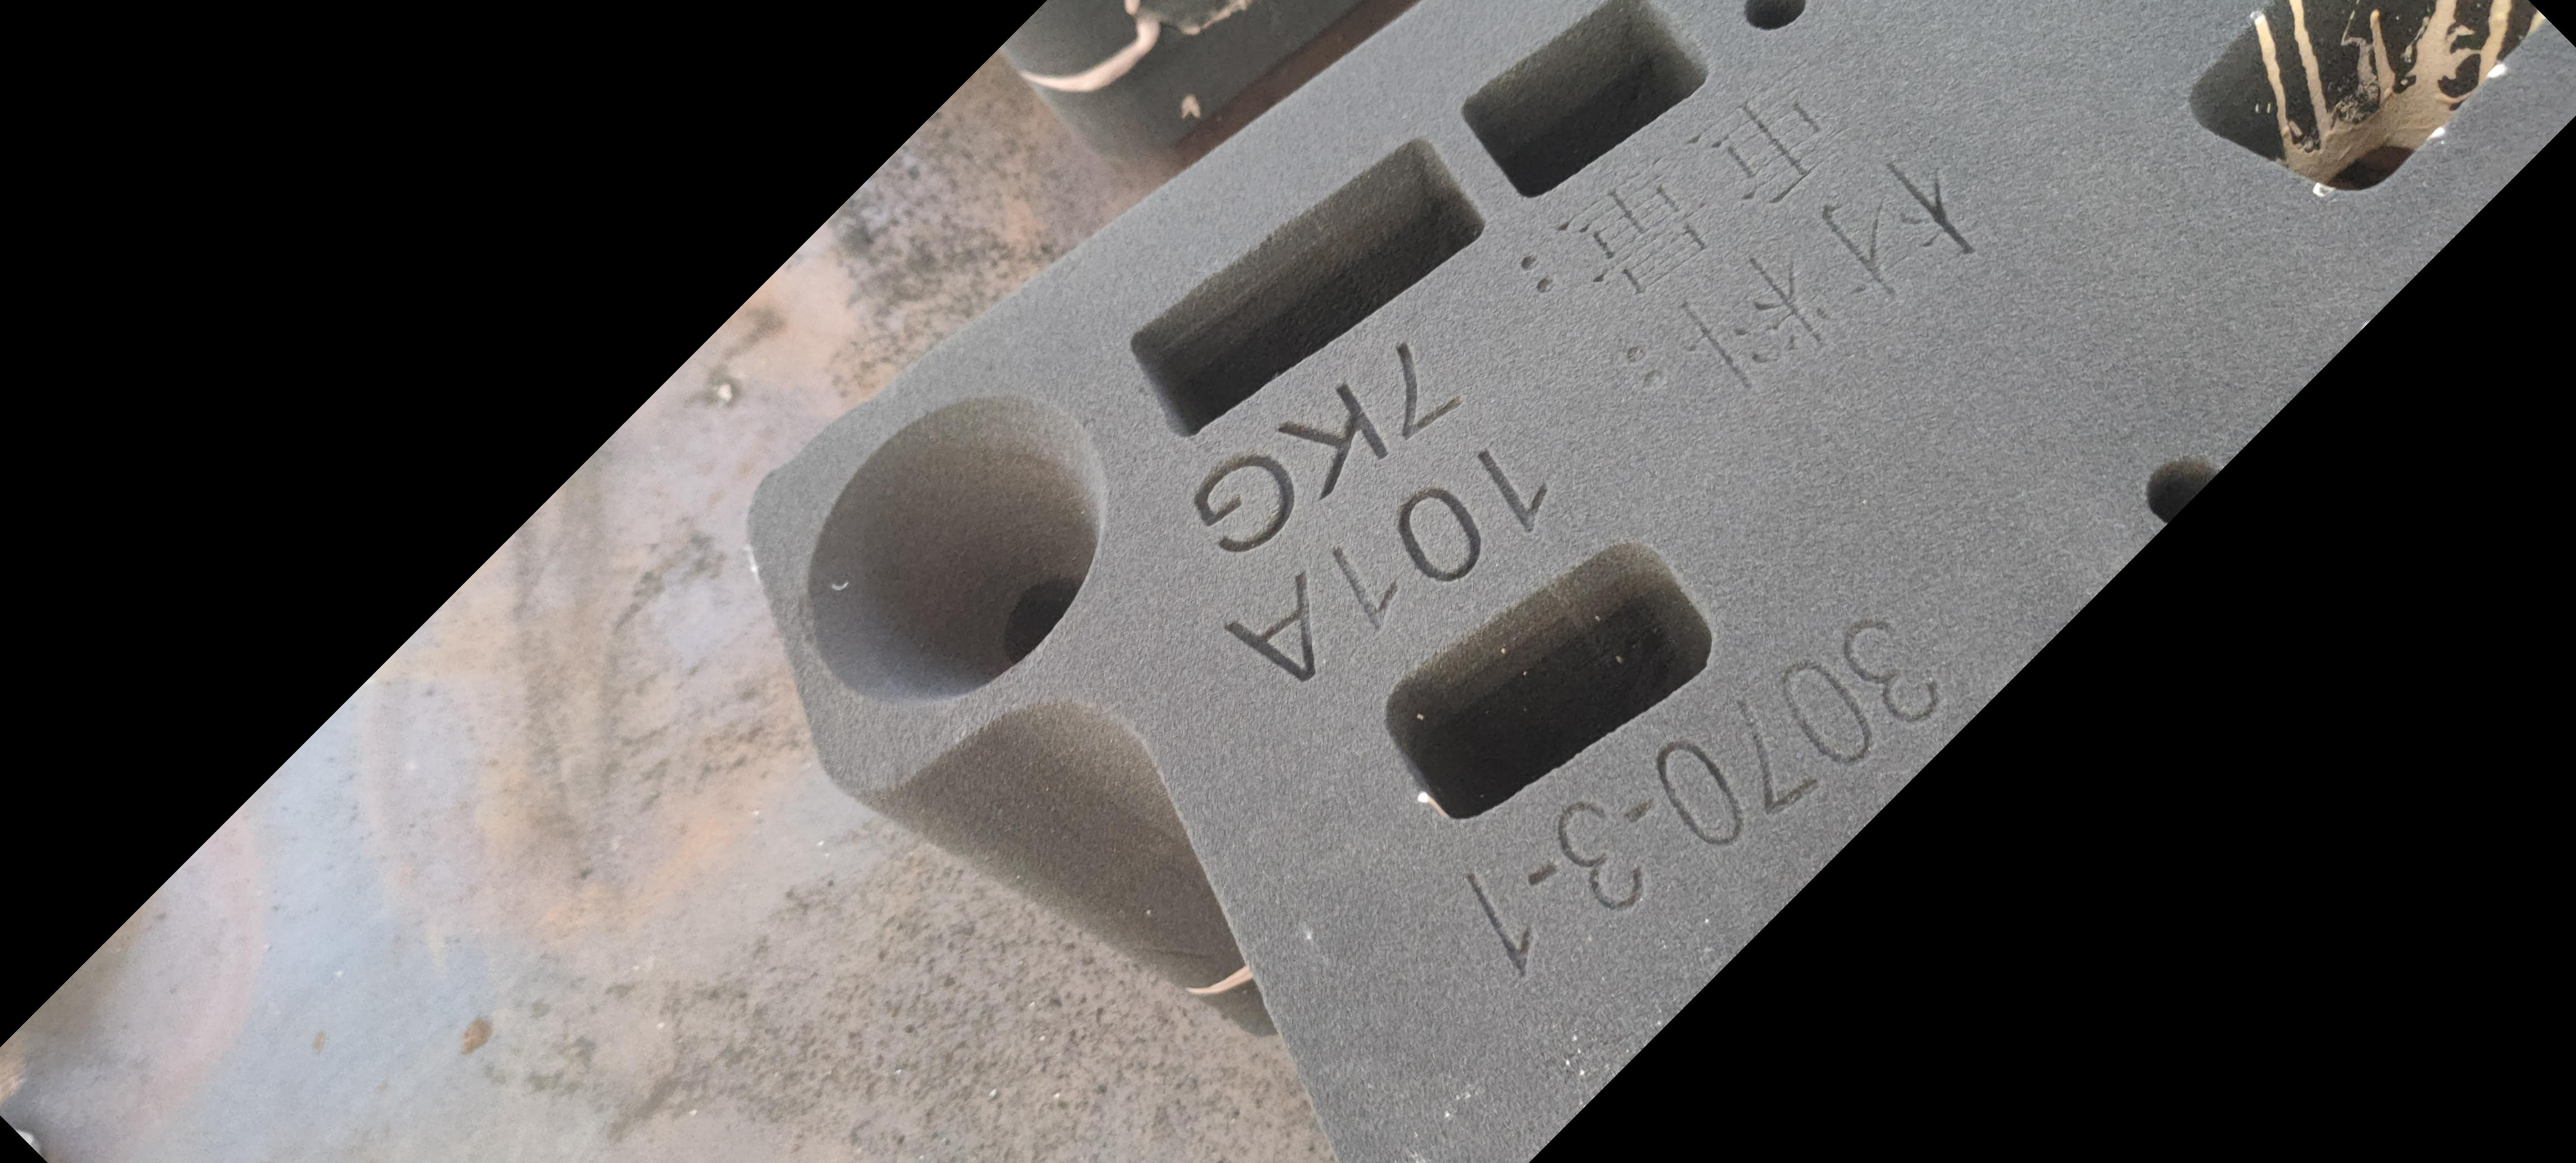pouring hole: (807, 391, 1107, 705)
